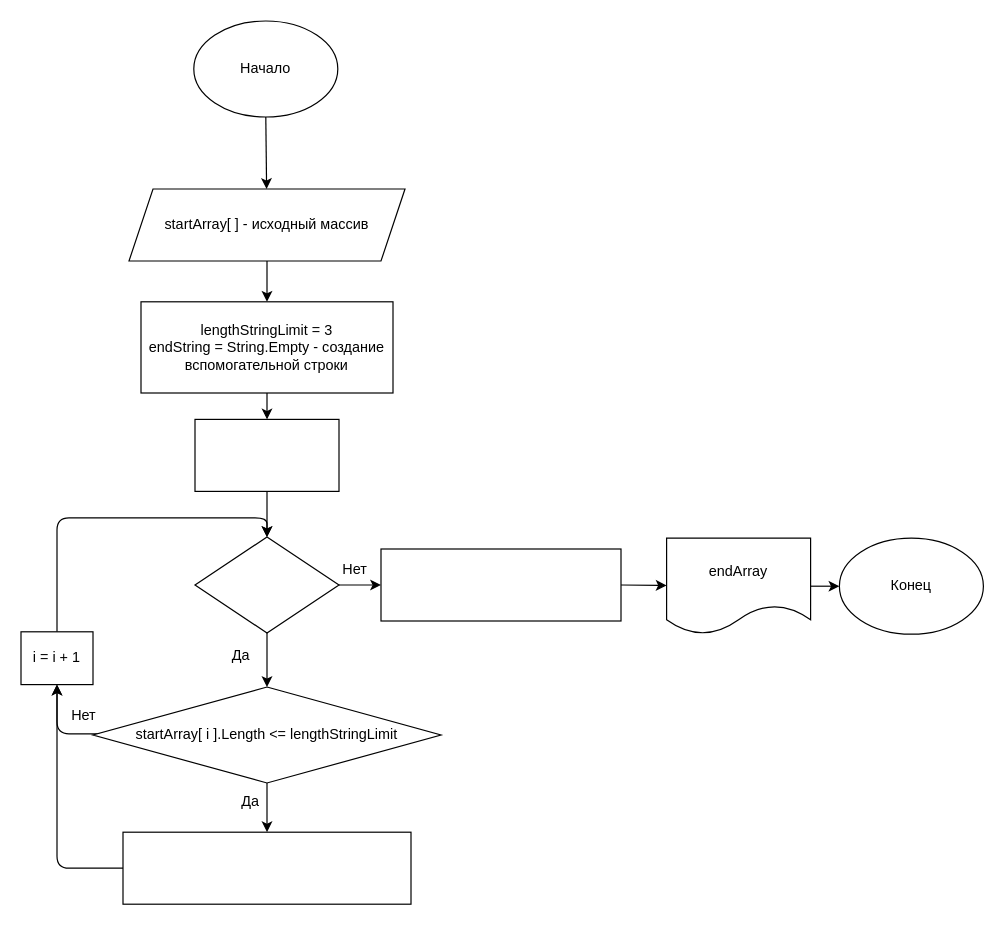
The diagram is 1004 pixels wide and 925 high, and some of its shapes have lost their labels. The centre of each missing label's shape, as x and y in pixels:
endArray[ ] = endString.Split( ";" ) - преобразование строки в массив строк: [500,584]
endString = endString + startArray[ i ] + ":": [266,867]
i < startArray.Length: [266,584]
i = 0 переменная для счетчика: [266,454]
